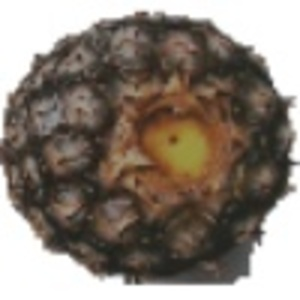abacaxi: (1, 5, 294, 280)
